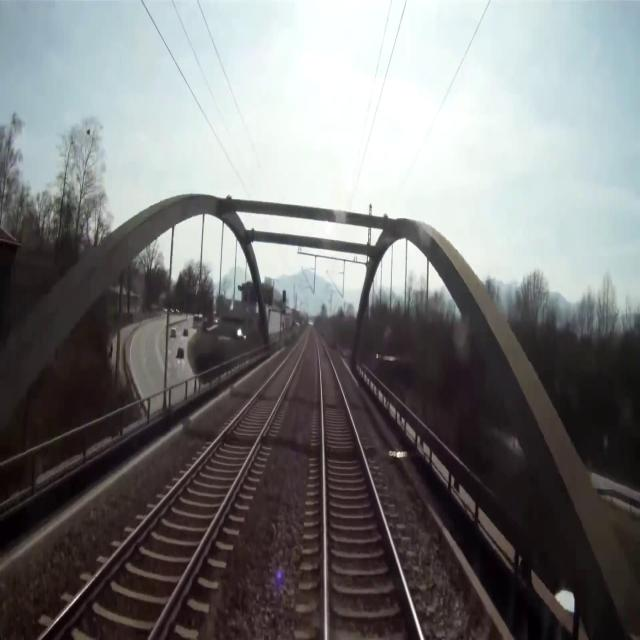rail-track: (44, 328, 307, 639), (315, 330, 419, 639)
